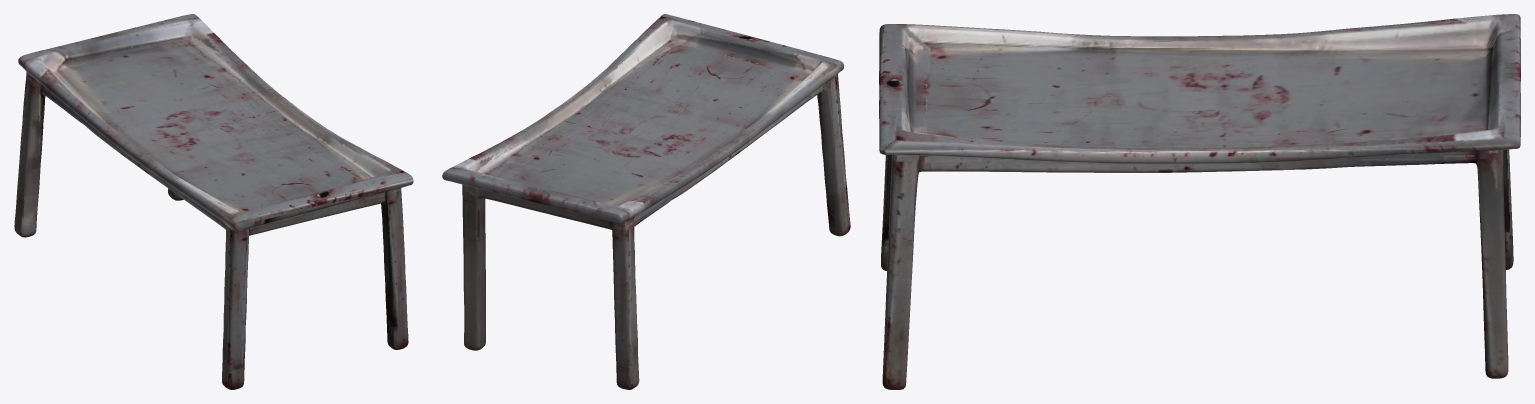
File: viscera-table.glb
3 renders of one model, left to right at view 1: azimuth 30°, elevation 25°; view 2: azimuth 150°, elevation 25°; view 3: azimuth 270°, elevation 25°, orthographic. The views are drawn at different scales.
Parts seen in each view (by area): view 1: cowninja-viscera-table; view 2: cowninja-viscera-table; view 3: cowninja-viscera-table.
Boxes of the visible parts, x1,y1,x2,y2 form: cowninja-viscera-table: [14, 14, 413, 389]; cowninja-viscera-table: [442, 14, 850, 389]; cowninja-viscera-table: [879, 14, 1520, 389].
Size of the model in its own units: 1.17 by 1.07 by 2.4.
1 material, 1 textured.
